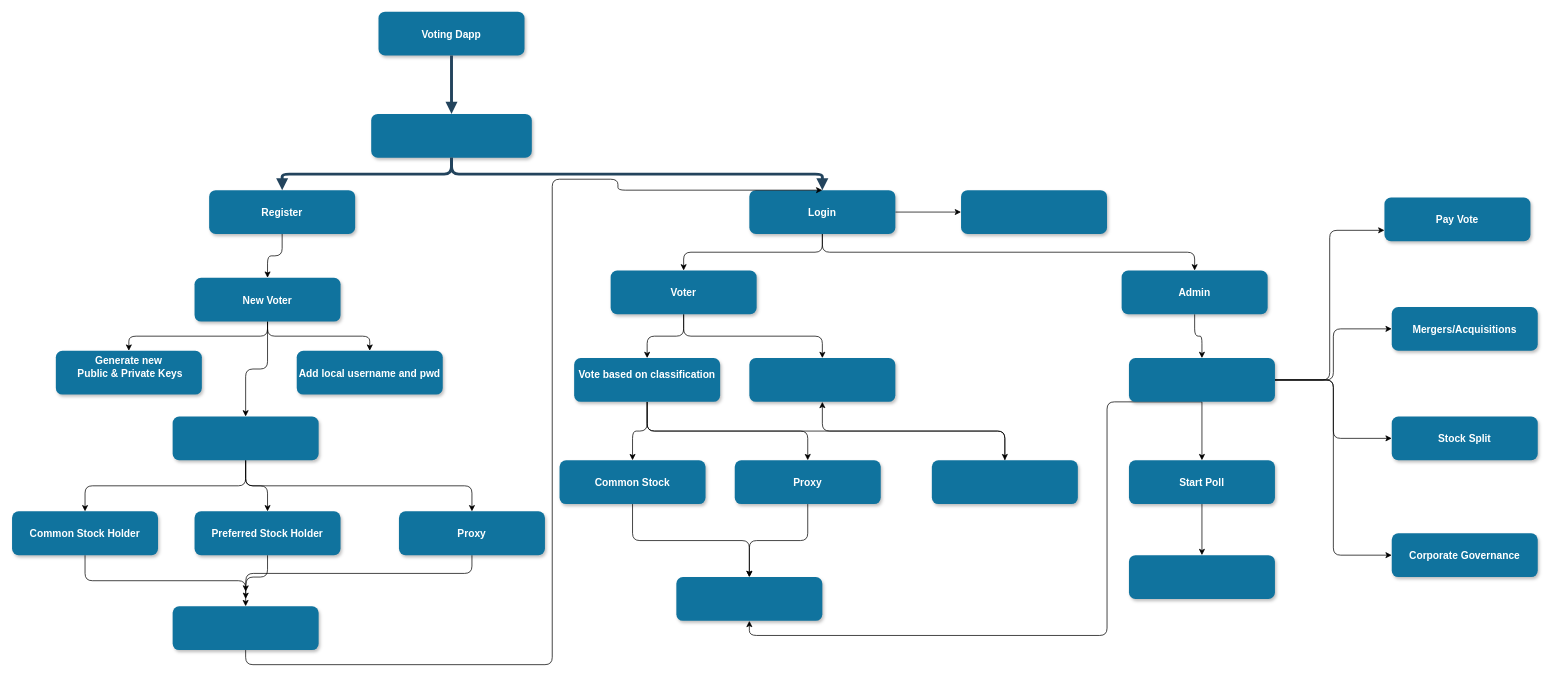
This 1550x677 diagram has some shape labels left out. The shapes that lost their labels are listed below. From the top down, each one's centre as x and y in pixels, then its label:
the point at 452,136: Homepage
the point at 1034,213: Access generated credentials
the point at 822,381: View Previous Votes/Polls
the point at 1202,381: Create Poll
the point at 246,439: Voter Classification
the point at 1005,483: Preferred Stock
the point at 1202,578: End Poll
the point at 749,600: Can Vote!
the point at 246,629: Completed!
